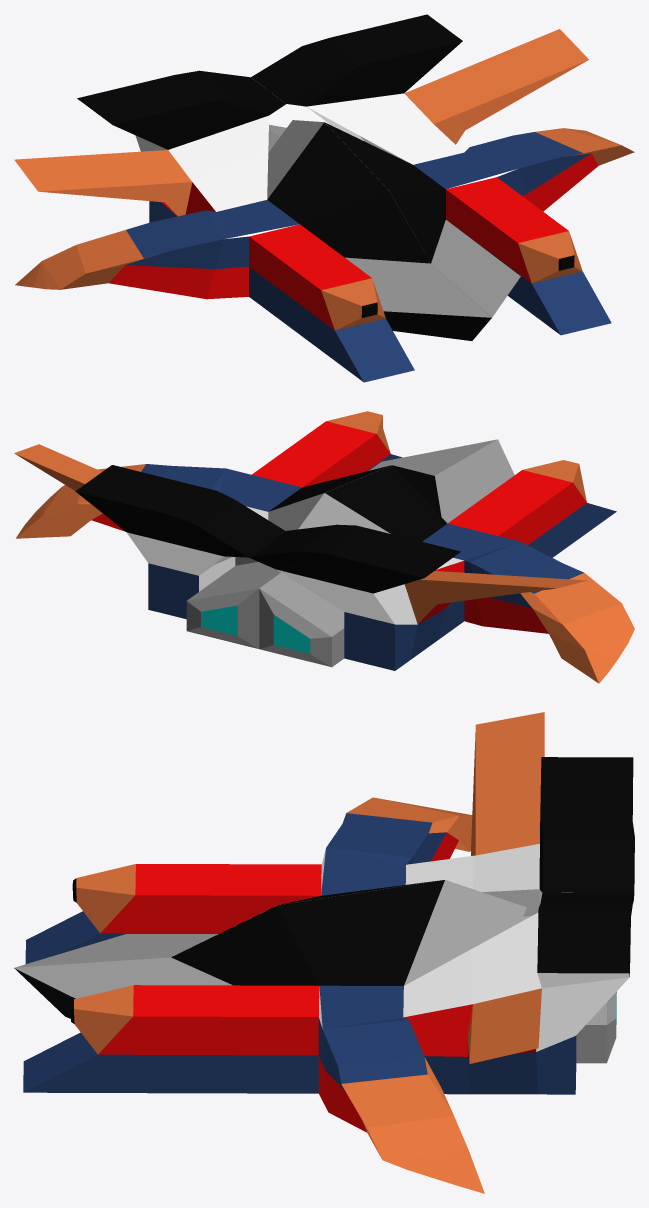
File: playerShip.gltf
3 renders of one model, top to bottom at view 1: azimuth 30°, elevation 25°; view 2: azimuth 150°, elevation 25°; view 3: azimuth 270°, elevation 25°, orthographic. The views are drawn at different scales.
Parts seen in each view (by area): view 1: Cube.001; view 2: Cube.001; view 3: Cube.001.
Boxes of the visible parts, x1=… form: Cube.001: x1=14, y1=14, x2=634, y2=382; Cube.001: x1=14, y1=411, x2=634, y2=683; Cube.001: x1=14, y1=712, x2=634, y2=1193.
Bounding box in the file's own units: 20.28 × 4 × 14.7.
